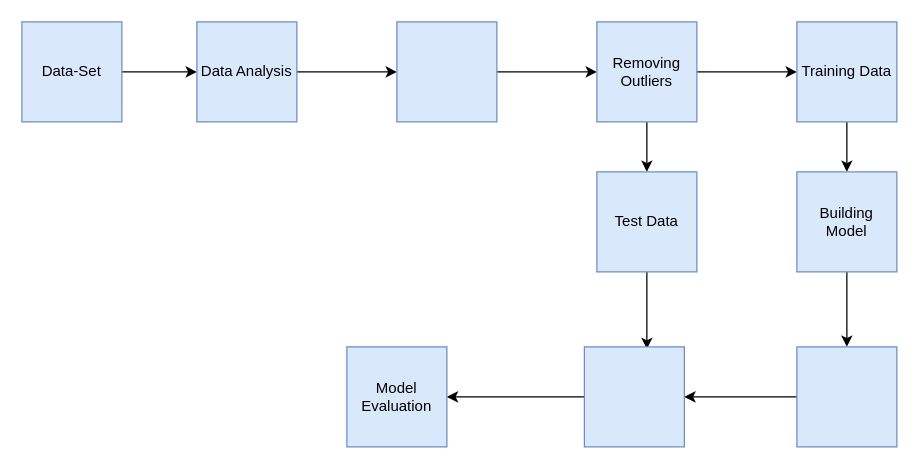
The diagram is 919 pixels wide and 469 high, and some of its shapes have lost their labels. Each missing label, with the centre of its shape:
"Cleaning Data" goes at (x=446, y=71).
"Testing Model" goes at (x=633, y=396).
"Training Model" goes at (x=846, y=396).
